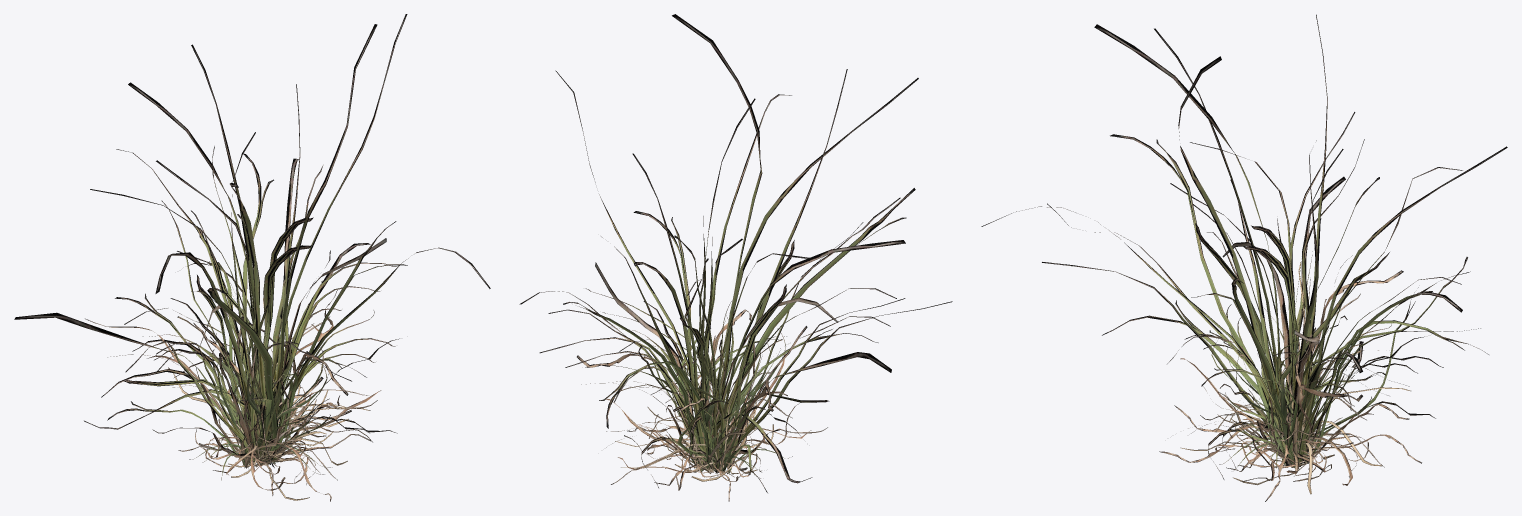
Rendered from grass.glb.
The picture shows the model from 3 angles, left to right: view 1: azimuth 30°, elevation 25°; view 2: azimuth 150°, elevation 25°; view 3: azimuth 270°, elevation 25°; orthographic projection. The views are drawn at different scales.
Visible parts, largest first — view 1: a; view 2: a; view 3: a.
Boxes of the visible parts, x1=… form: a: x1=14, y1=14, x2=490, y2=501; a: x1=519, y1=14, x2=952, y2=501; a: x1=981, y1=14, x2=1507, y2=501.
Bounding box in the file's own units: 0.3556 × 0.4053 × 0.4332.
1 material, 1 textured.
